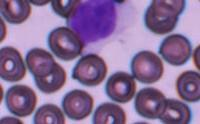L: (67, 0, 137, 47)
